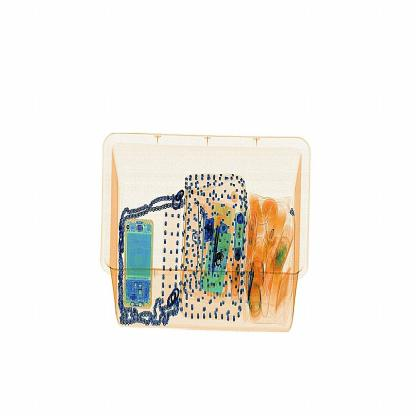gun: (206, 202, 219, 281)
